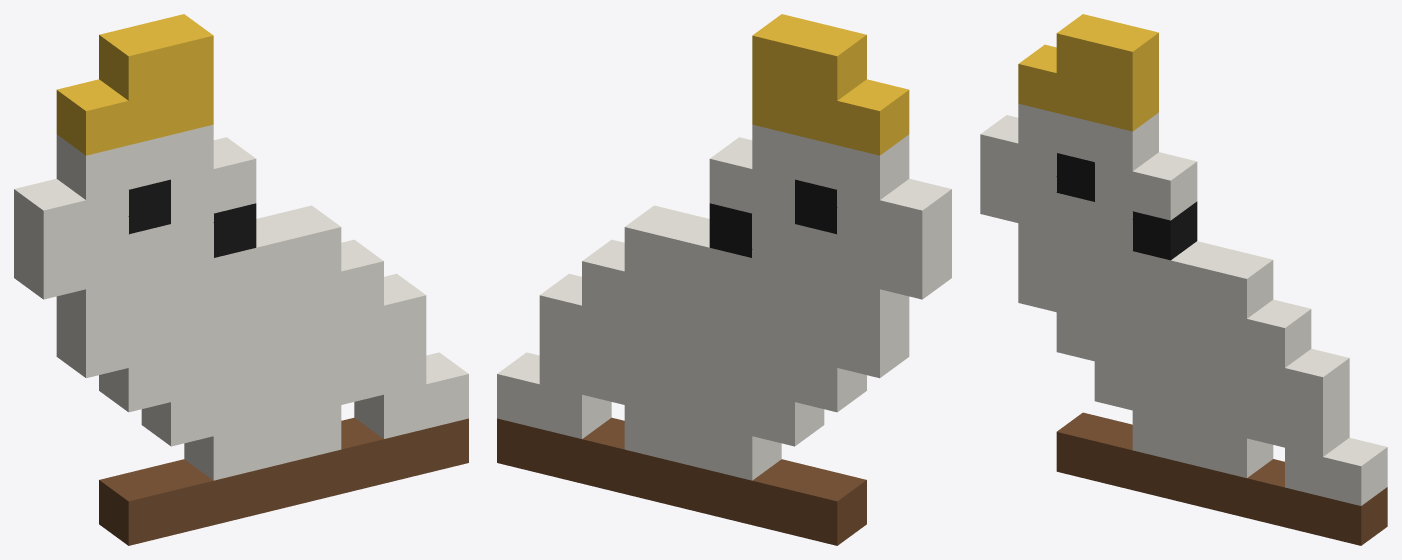
Rendered from magnet_cockatoo.glb.
3 renders of one model, left to right at view 1: azimuth 30°, elevation 25°; view 2: azimuth 150°, elevation 25°; view 3: azimuth 330°, elevation 25°, orthographic. The views are drawn at different scales.
Parts seen in each view (by area): view 1: Magnet_cockatoo; view 2: Magnet_cockatoo; view 3: Magnet_cockatoo.
Boxes of the visible parts, x1,y1,x2,y2 form: Magnet_cockatoo: (14, 14, 468, 545); Magnet_cockatoo: (497, 14, 951, 545); Magnet_cockatoo: (980, 14, 1387, 545).
Size of the model in its own units: 0.05 by 0.055 by 0.006.
Materials: 1 (1 with a texture image).
